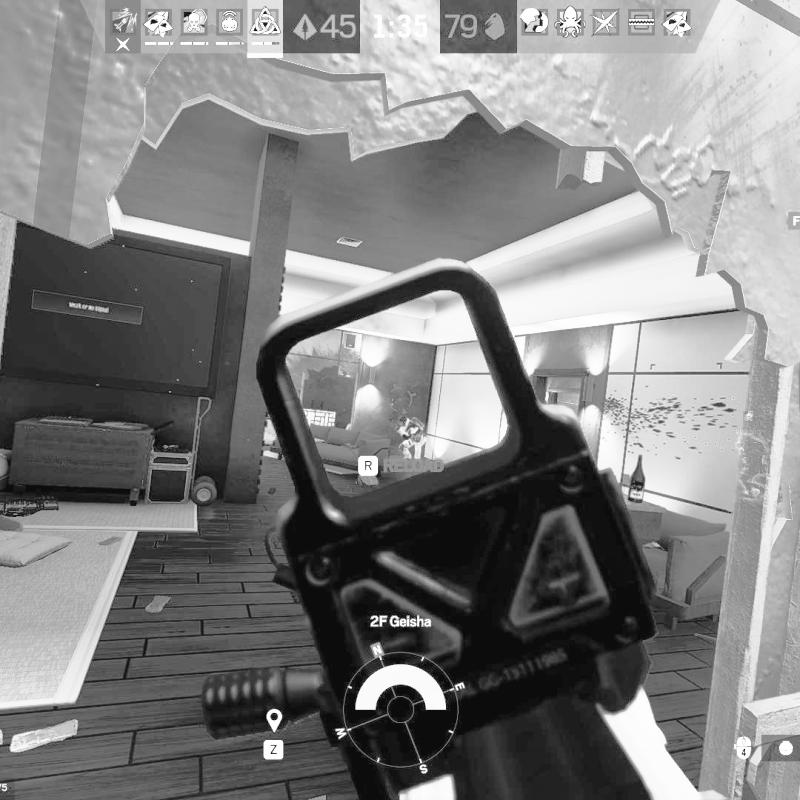Character: (388, 414, 428, 462)
Head: (398, 415, 408, 427)
